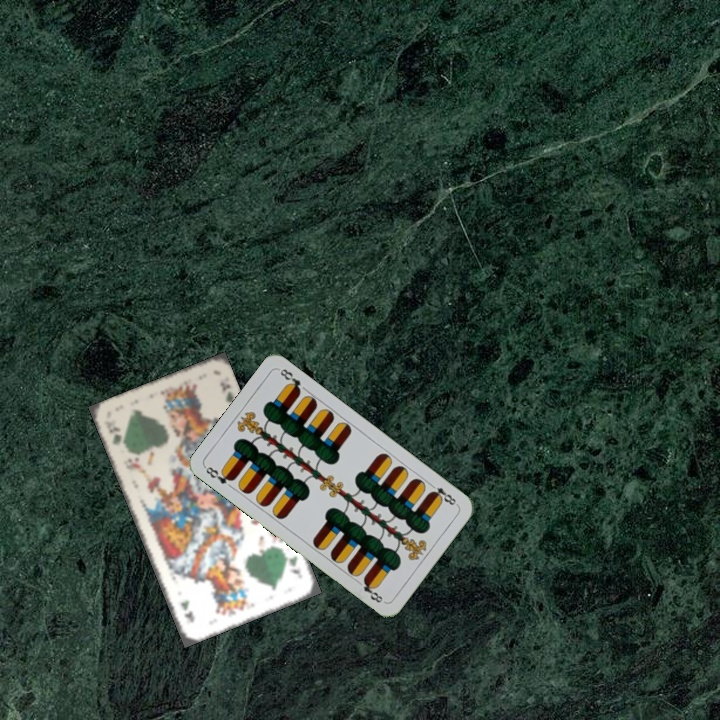E8: (425, 479, 460, 508), (201, 462, 237, 487)
GK: (279, 547, 304, 582), (107, 429, 129, 451)
